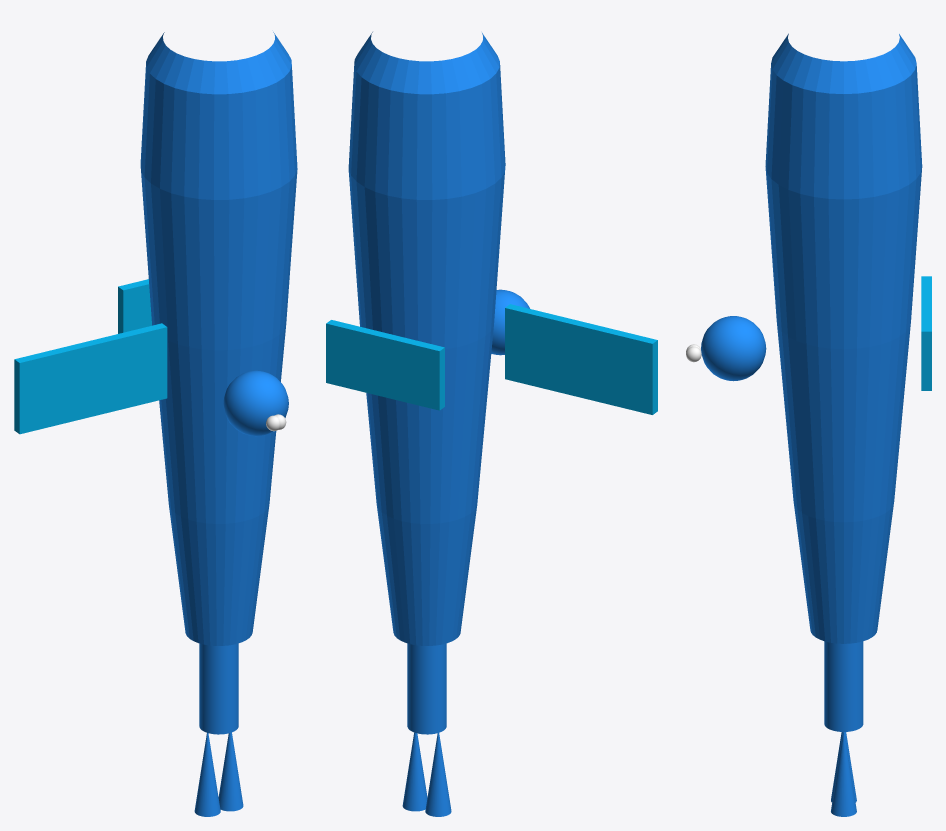
The picture shows the model from 3 angles, left to right: view 1: azimuth 30°, elevation 25°; view 2: azimuth 150°, elevation 25°; view 3: azimuth 270°, elevation 25°; orthographic projection.
Visible parts, largest first — view 1: body_main, body_curve_sides, tail_base, head_top, body_curve_back, tail_split_1, tail_split_2; view 2: body_main, body_curve_sides, body_curve_back, tail_base, tail_split_1, tail_split_2, head_top; view 3: body_main, tail_base, head_top, body_curve_back, tail_split_2.
Part boxes in pixels (x1=…): body_main: x1=140, y1=32, x2=297, y2=645; body_curve_sides: x1=14, y1=323, x2=167, y2=434; tail_base: x1=199, y1=643, x2=238, y2=734; head_top: x1=223, y1=370, x2=288, y2=436; body_curve_back: x1=118, y1=279, x2=151, y2=333; tail_split_1: x1=194, y1=733, x2=220, y2=816; tail_split_2: x1=218, y1=732, x2=243, y2=811; body_main: x1=348, y1=32, x2=505, y2=645; body_curve_sides: x1=505, y1=304, x2=657, y2=414; body_curve_back: x1=326, y1=320, x2=444, y2=410; tail_base: x1=407, y1=643, x2=446, y2=734; tail_split_1: x1=425, y1=733, x2=451, y2=816; tail_split_2: x1=402, y1=732, x2=427, y2=811; head_top: x1=491, y1=289, x2=529, y2=355; body_main: x1=765, y1=33, x2=922, y2=643; tail_base: x1=824, y1=641, x2=863, y2=731; head_top: x1=701, y1=316, x2=766, y2=381; body_curve_back: x1=921, y1=276, x2=931, y2=390; tail_split_2: x1=831, y1=732, x2=856, y2=816.
Size of the model in its own units: 1.25 by 3.24 by 0.941.
